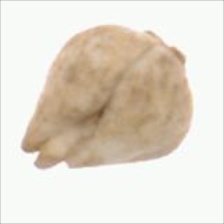L1: (20, 138, 73, 173), (140, 29, 187, 63)
L2: (20, 24, 194, 171)
